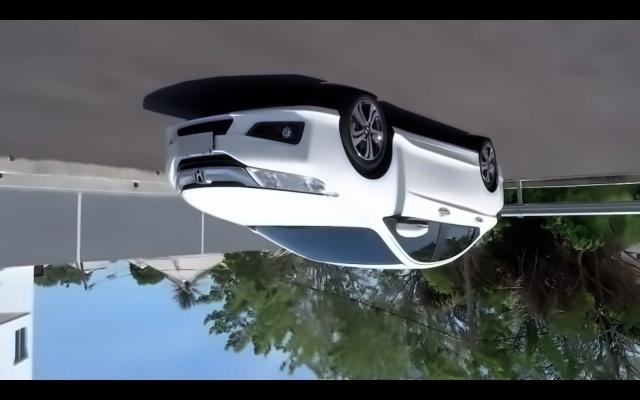Car hood: (180, 183, 368, 229)
Driver-s door - -F-R-: (381, 120, 452, 266)
Fender - -F-R-: (333, 138, 407, 235)
Fender - -R-R-: (465, 178, 514, 241)
Front bumper: (163, 103, 344, 182)
Headlight - -R-: (244, 164, 340, 197)
Passenger-s door - -R-R-: (431, 133, 488, 267)
Side bumper - -R-: (389, 120, 481, 184)
Side mirror - -R-: (386, 218, 431, 238)
